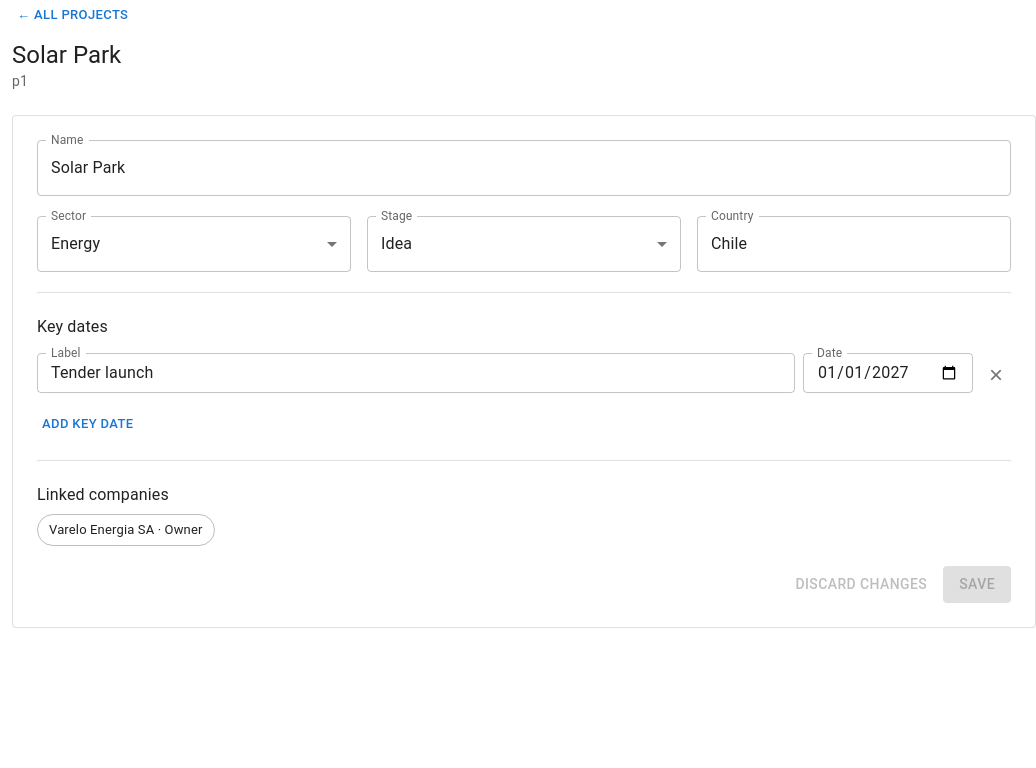
Test: ProjectEdit › saves my edit with the loaded record as base
Replace the text in the field labelled "Name" with "Solar Park II". click: (524, 168)
box: x1=37 y1=140 x2=1011 y2=196
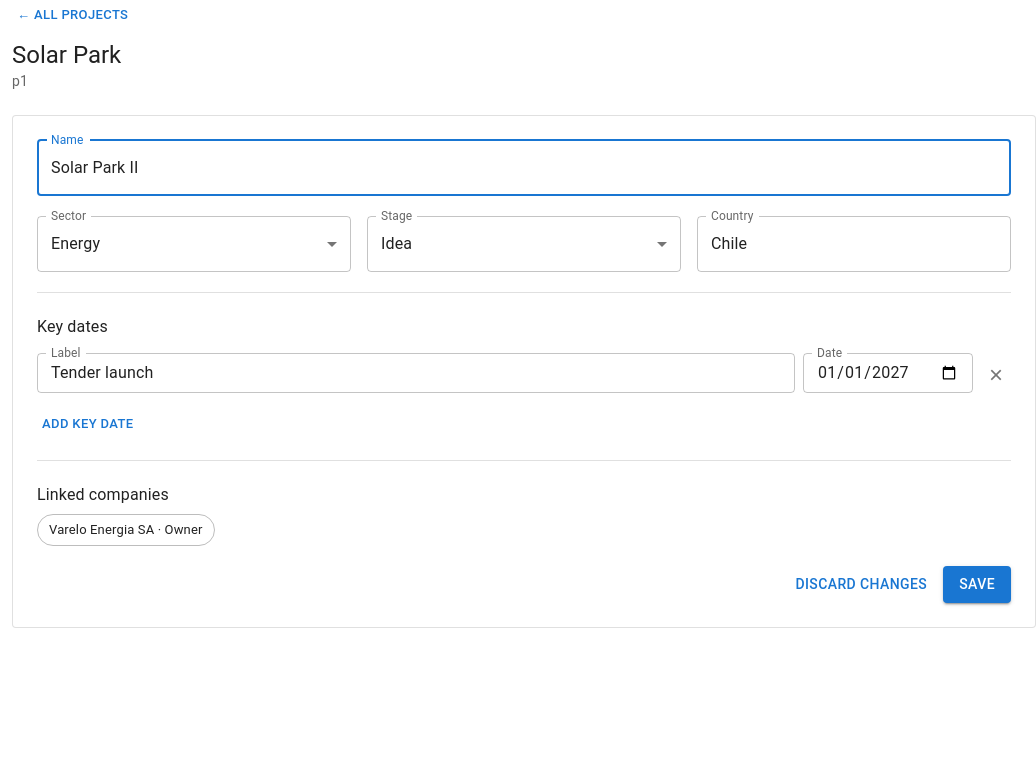
Click the button "Save". click: click(977, 584)
box: x1=943 y1=566 x2=1011 y2=603
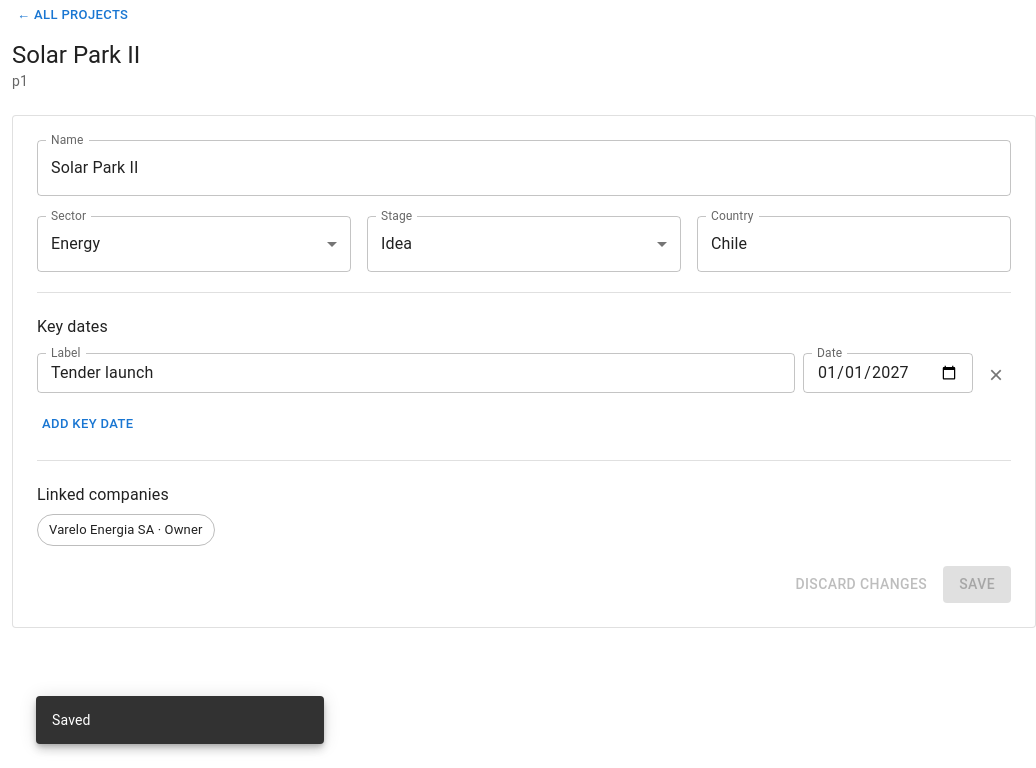
Now the text "Saved" is shown, box x1=52 y1=712 x2=91 y2=728
Now the heading "Solar Park II" is shown, box x1=12 y1=41 x2=140 y2=69
